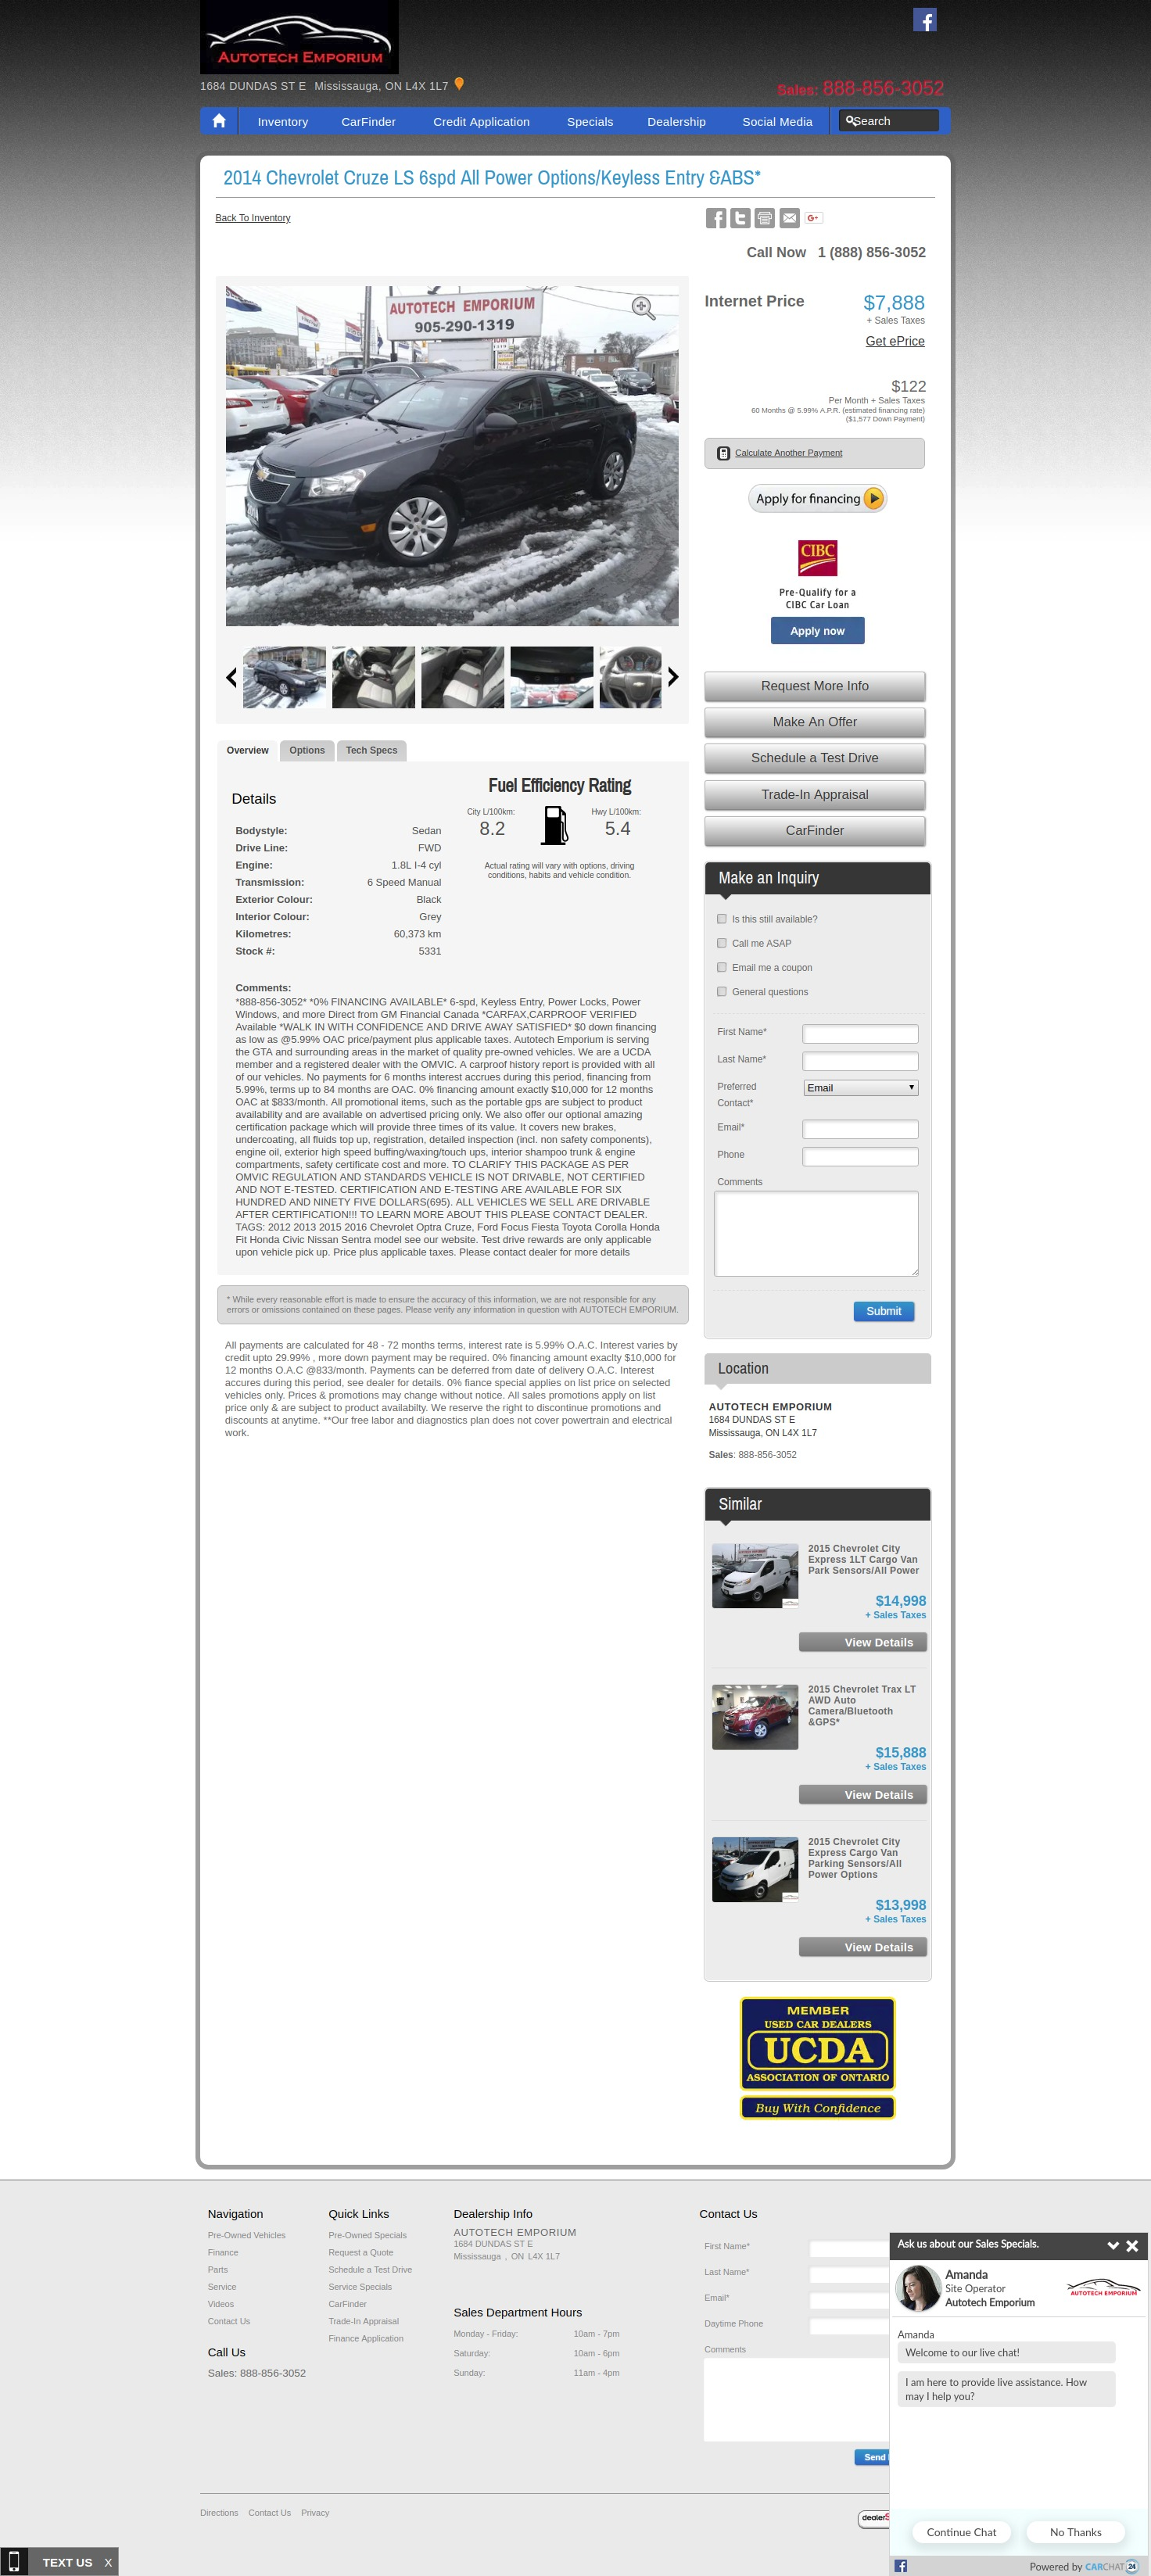car: (666, 667, 679, 687)
